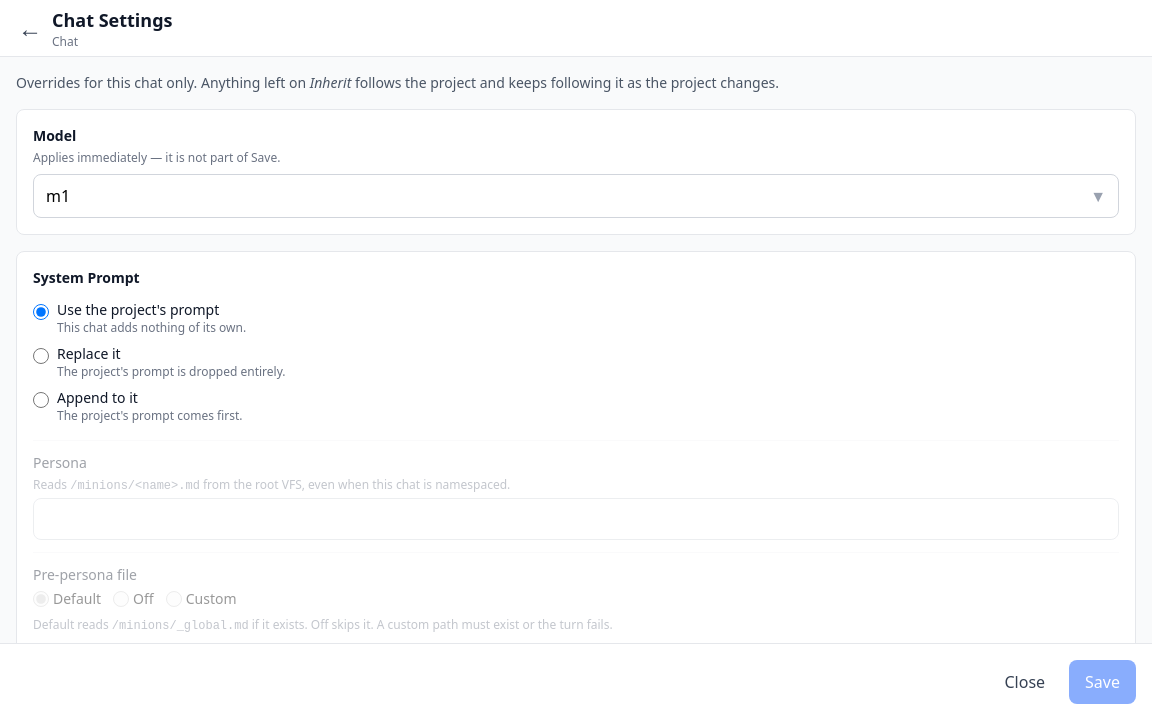
Test: system prompt section › auto-fills the namespace from the persona
The width and height of the screenshot is (1152, 720).
Click the radio button labelled "Replace it The project's prompt is dropped entirely.".
click(41, 356)  # box [33,348,49,364]
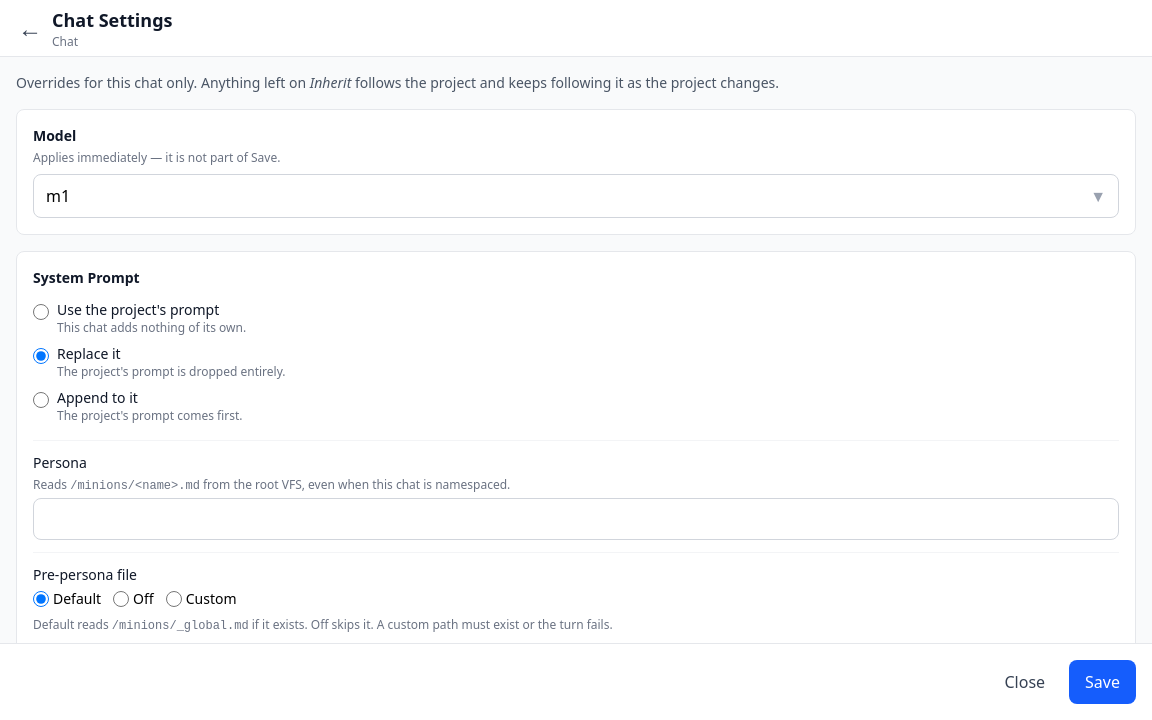
Type "researcher" into the field labelled "Persona".
click(576, 519); type("researcher")  # box [33,498,1119,540]
(page scrolled)
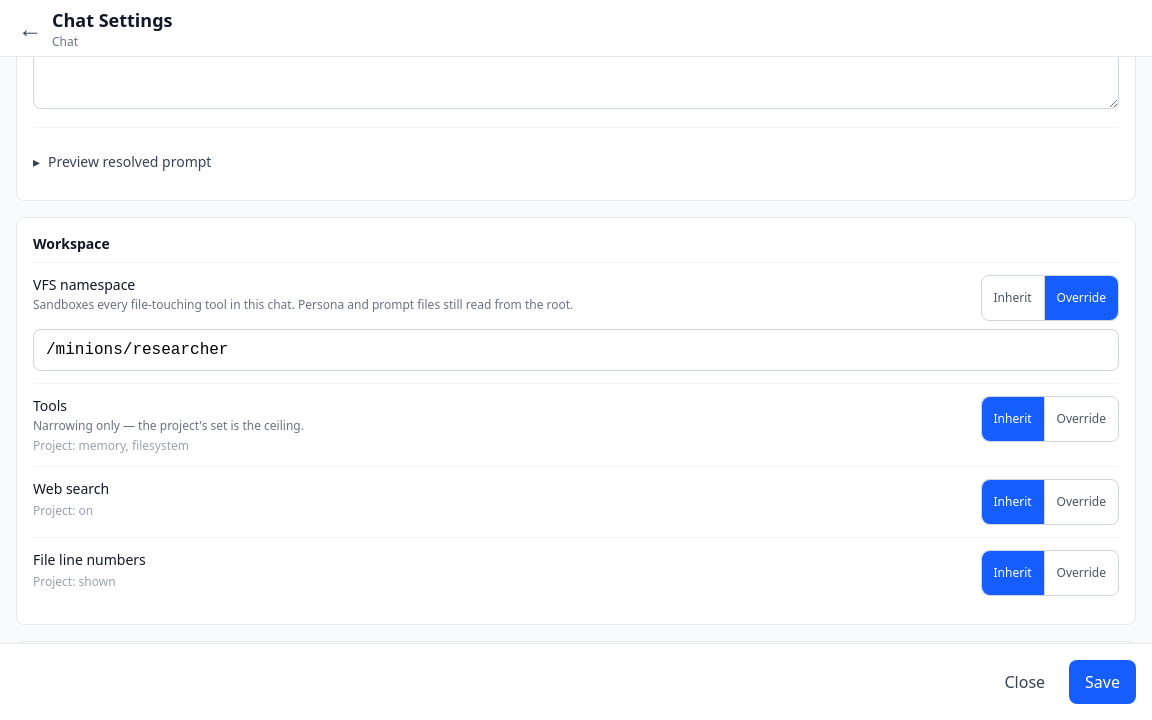
Expected: the field named "VFS namespace" holds "/minions/researcher", [33,329,1119,371]
